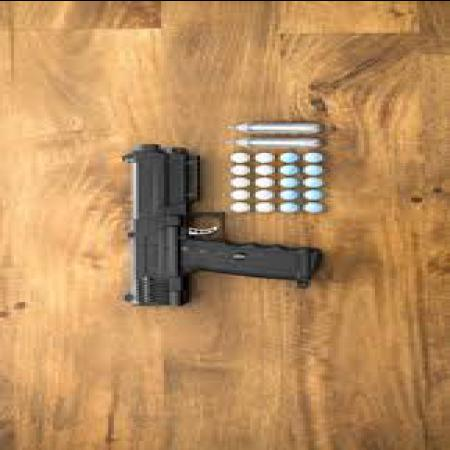Pistol: (116, 141, 320, 306)
